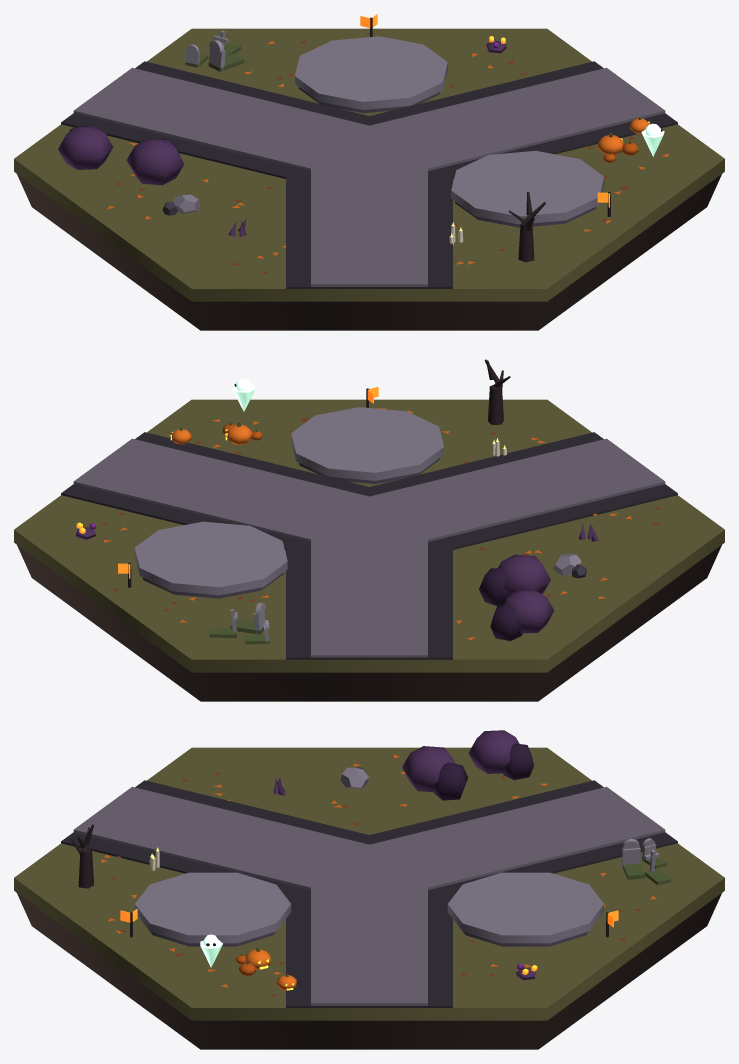
Rendered from tile_battleFork.glb.
3 renders of one model, top to bottom at view 1: azimuth 30°, elevation 25°; view 2: azimuth 150°, elevation 25°; view 3: azimuth 270°, elevation 25°, orthographic.
Visible parts, largest first — view 1: ground, road, ground_soil, tower_slot_1_plate, tower_slot_2_plate, deco_bush_0_a, deco_bush_5_a, road_surface_hub, deco_tree_3_trunk; view 2: ground, road, ground_soil, tower_slot_1_plate, tower_slot_2_plate, road_surface_hub, deco_bush_0_a, deco_bush_5_a, deco_bush_5_b, deco_bush_0_b, deco_tree_3_trunk; view 3: ground, road, ground_soil, tower_slot_1_plate, tower_slot_2_plate, road_surface_hub, deco_bush_0_a, deco_bush_5_a, deco_bush_0_b, deco_bush_5_b, deco_tree_3_trunk.
Part boxes in pixels (left/top/right/bottom): ground: left=14, top=28, right=724, bottom=301; road: left=61, top=61, right=677, bottom=288; ground_soil: left=17, top=174, right=721, bottom=330; tower_slot_1_plate: left=295, top=36, right=447, bottom=109; tower_slot_2_plate: left=451, top=150, right=604, bottom=224; deco_bush_0_a: left=126, top=138, right=184, bottom=185; deco_bush_5_a: left=58, top=126, right=112, bottom=169; road_surface_hub: left=319, top=129, right=421, bottom=177; deco_tree_3_trunk: left=518, top=223, right=534, bottom=262; ground: left=14, top=399, right=724, bottom=672; road: left=61, top=432, right=677, bottom=659; ground_soil: left=17, top=545, right=721, bottom=701; tower_slot_1_plate: left=134, top=521, right=287, bottom=595; tower_slot_2_plate: left=291, top=407, right=443, bottom=480; road_surface_hub: left=317, top=500, right=427, bottom=549; deco_bush_0_a: left=498, top=554, right=550, bottom=594; deco_bush_5_a: left=503, top=590, right=554, bottom=633; deco_bush_5_b: left=490, top=604, right=522, bottom=640; deco_bush_0_b: left=479, top=568, right=510, bottom=605; deco_tree_3_trunk: left=487, top=385, right=503, bottom=424; ground: left=14, top=747, right=724, bottom=1020; road: left=61, top=780, right=677, bottom=1007; ground_soil: left=17, top=893, right=721, bottom=1049; tower_slot_1_plate: left=447, top=872, right=603, bottom=943; tower_slot_2_plate: left=135, top=872, right=291, bottom=943; road_surface_hub: left=311, top=848, right=427, bottom=897; deco_bush_0_a: left=402, top=746, right=455, bottom=792; deco_bush_5_a: left=468, top=730, right=519, bottom=773; deco_bush_0_b: left=434, top=762, right=468, bottom=800; deco_bush_5_b: left=502, top=743, right=534, bottom=779; deco_tree_3_trunk: left=78, top=847, right=93, bottom=888.
Bounding box in the file's own units: 1.73 × 0.346 × 2.
